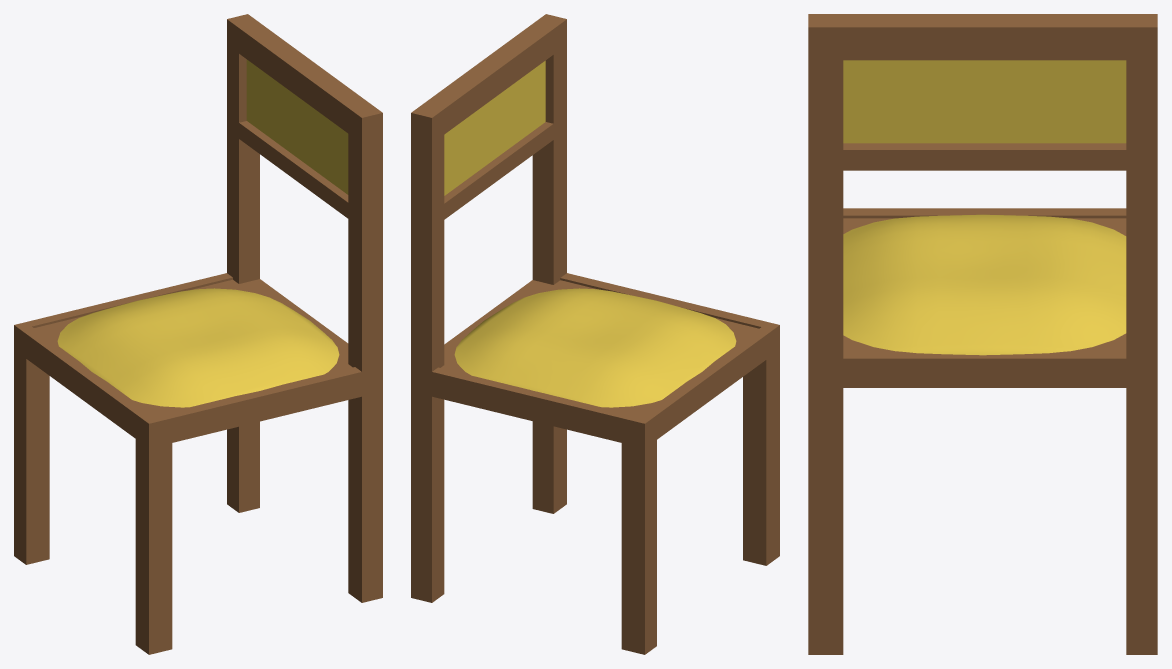
Rendered from Cadeira.glb.
3 views of the same model, side by side, from view 1: azimuth 30°, elevation 25°; view 2: azimuth 150°, elevation 25°; view 3: azimuth 270°, elevation 25° (orthographic). The views are drawn at different scales.
Visible parts, largest first — view 1: Cube, Plane; view 2: Cube, Plane; view 3: Cube, Plane.
Part boxes in pixels (x1,y1,x2,y2): Cube: (14, 14, 382, 654); Plane: (57, 288, 339, 407); Cube: (411, 14, 779, 654); Plane: (454, 288, 736, 407); Cube: (808, 14, 1157, 654); Plane: (843, 214, 1126, 355).
Size of the model in its own units: 2 by 3.96 by 2.
